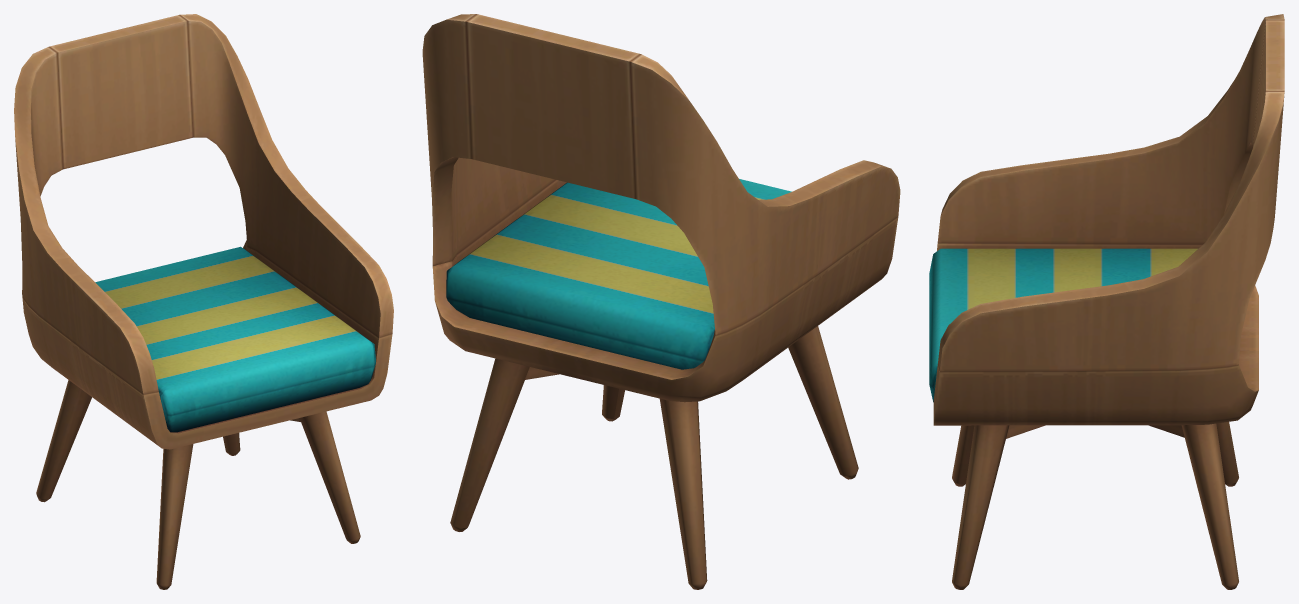
Rendered from LovelyDiningChair.fbx.
The picture shows the model from 3 angles, left to right: view 1: azimuth 30°, elevation 25°; view 2: azimuth 150°, elevation 25°; view 3: azimuth 270°, elevation 25°; orthographic projection. The views are drawn at different scales.
Visible parts, largest first — view 1: TinyLiving_LovelyDiningChair; view 2: TinyLiving_LovelyDiningChair; view 3: TinyLiving_LovelyDiningChair.
Part boxes in pixels (x1,y1,x2,y2): TinyLiving_LovelyDiningChair: [14, 14, 393, 589]; TinyLiving_LovelyDiningChair: [422, 14, 900, 589]; TinyLiving_LovelyDiningChair: [929, 14, 1284, 589].
Size of the model in its own units: 62.3 by 98.86 by 66.07.
